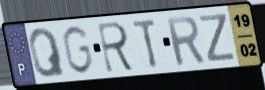G: (60, 24, 95, 76)
Q: (27, 26, 68, 80)
R: (163, 14, 207, 68), (96, 20, 137, 75)
T: (131, 16, 161, 70)
Z: (198, 12, 238, 65)
